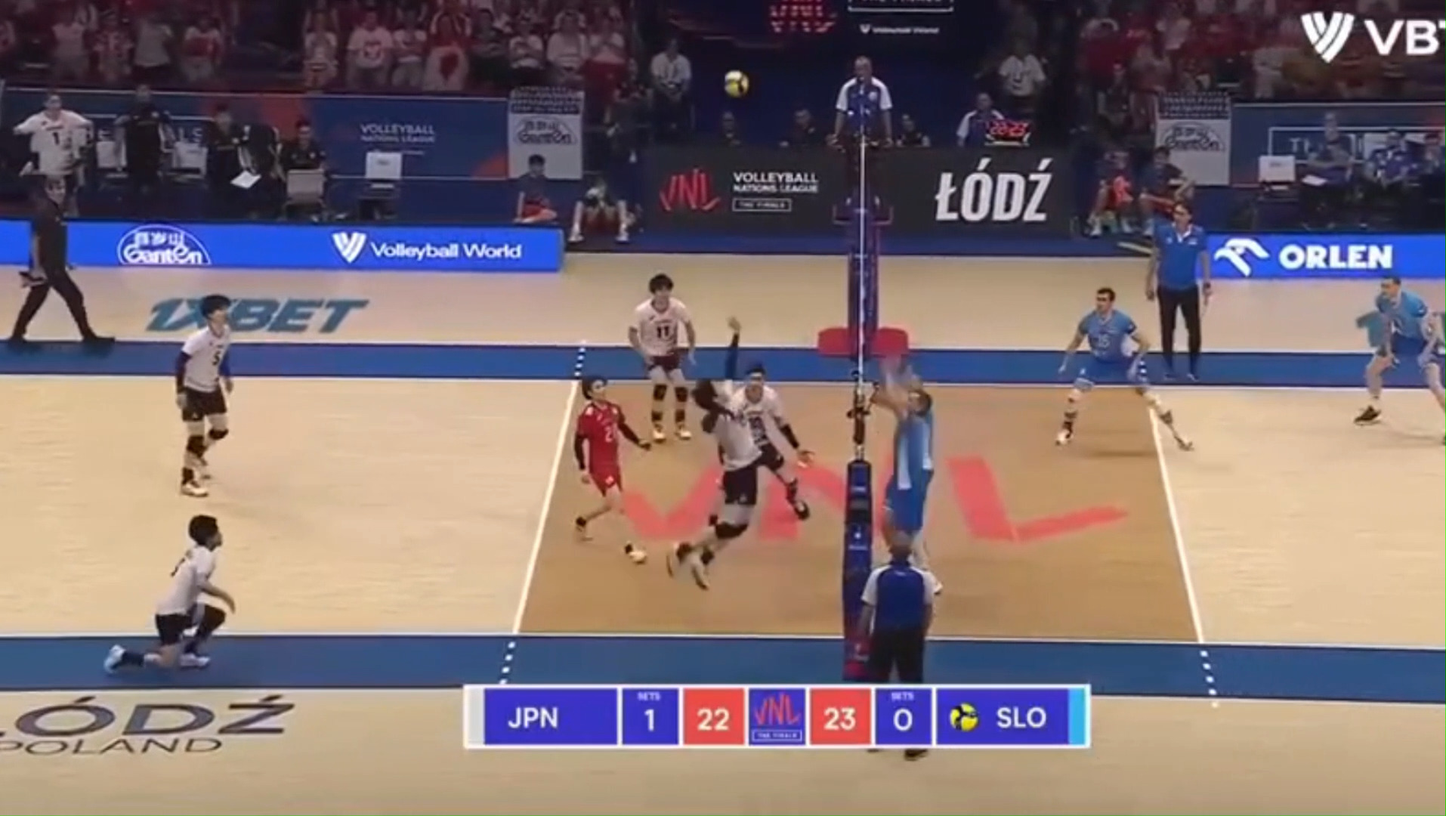ball: (723, 70, 749, 98)
player: (1055, 286, 1192, 450), (871, 357, 936, 567), (1353, 277, 1445, 425)
player 1: (669, 317, 765, 588), (106, 514, 236, 671), (729, 364, 811, 519), (573, 376, 650, 539), (627, 273, 697, 443), (174, 295, 233, 496)
referee: (8, 176, 113, 346), (859, 533, 937, 683), (1147, 202, 1211, 379), (832, 56, 893, 225)
